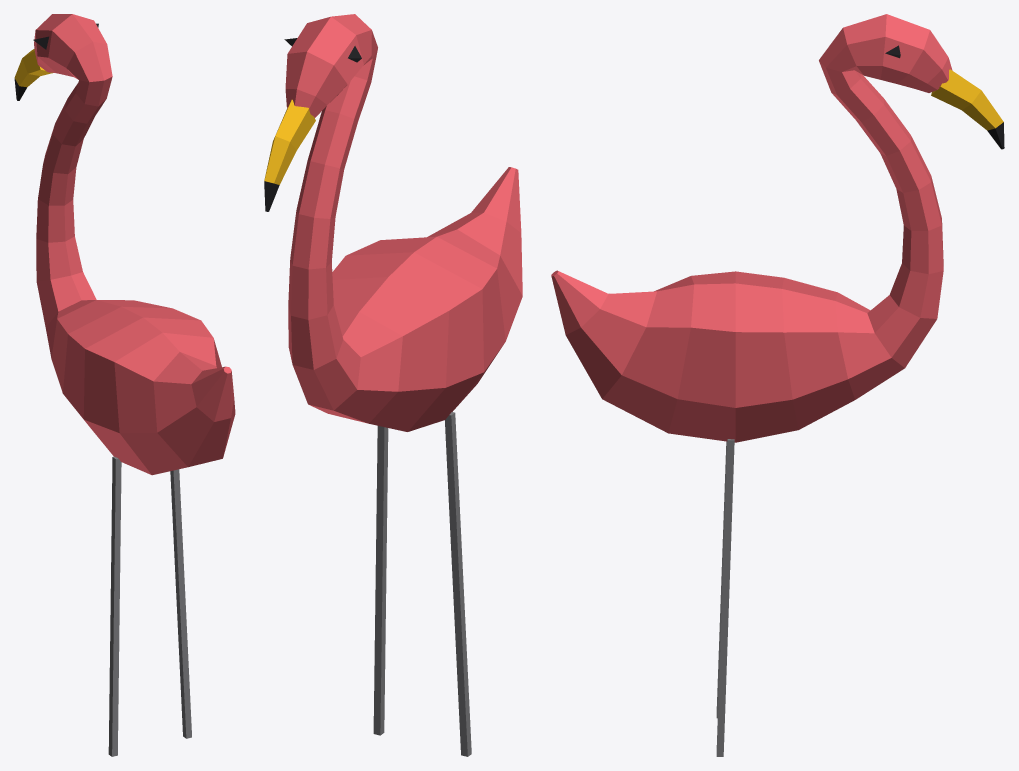
The model's file is flamingo-a.glb.
The picture shows the model from 3 angles, left to right: view 1: azimuth 30°, elevation 25°; view 2: azimuth 150°, elevation 25°; view 3: azimuth 270°, elevation 25°; orthographic projection. The views are drawn at different scales.
Parts seen in each view (by area): view 1: FlamingoUp; view 2: FlamingoUp; view 3: FlamingoUp.
Part boxes in pixels (x1,y1,x2,y2): FlamingoUp: (14, 14, 235, 756); FlamingoUp: (264, 14, 522, 756); FlamingoUp: (551, 14, 1004, 756).
Bounding box in the file's own units: 0.1599 × 0.8678 × 0.4935.
